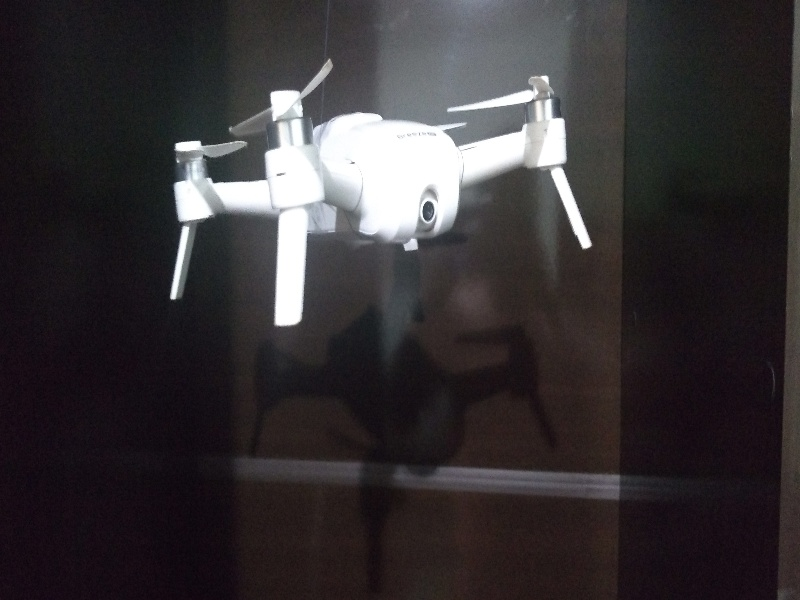drone: (145, 58, 603, 327)
